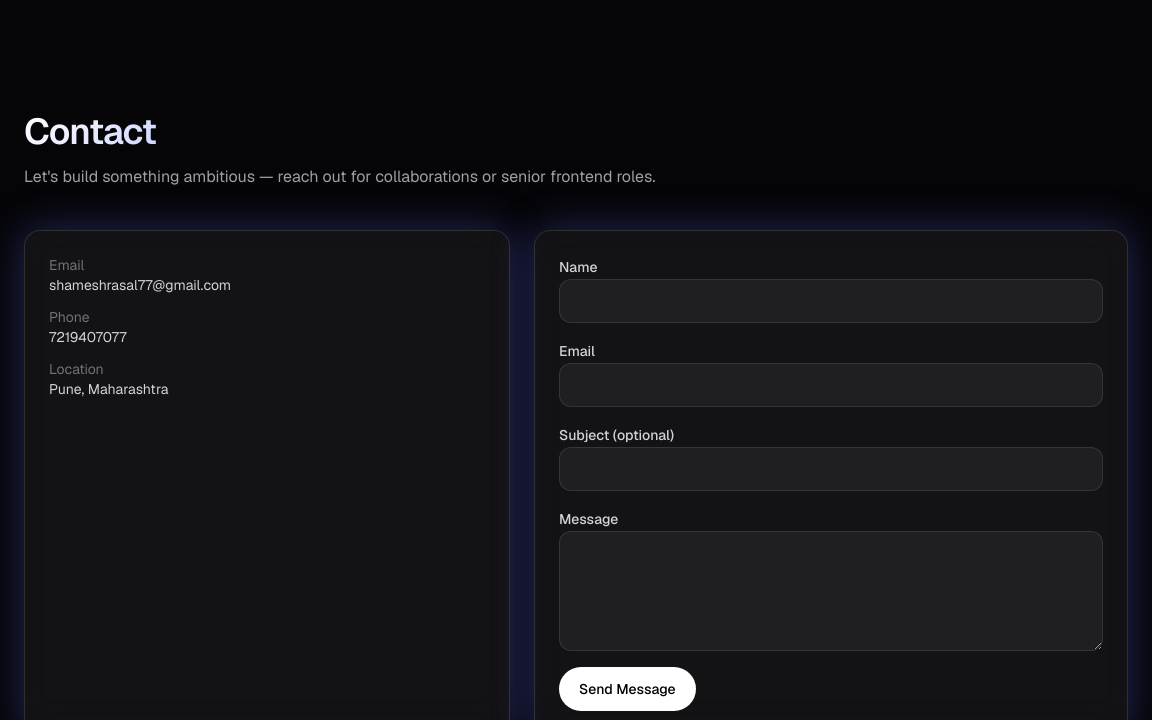
Test: ContactForm › shows validation errors for empty submit
Click the button "Send Message": x=627, y=689 x1=559 y1=667 x2=696 y2=711
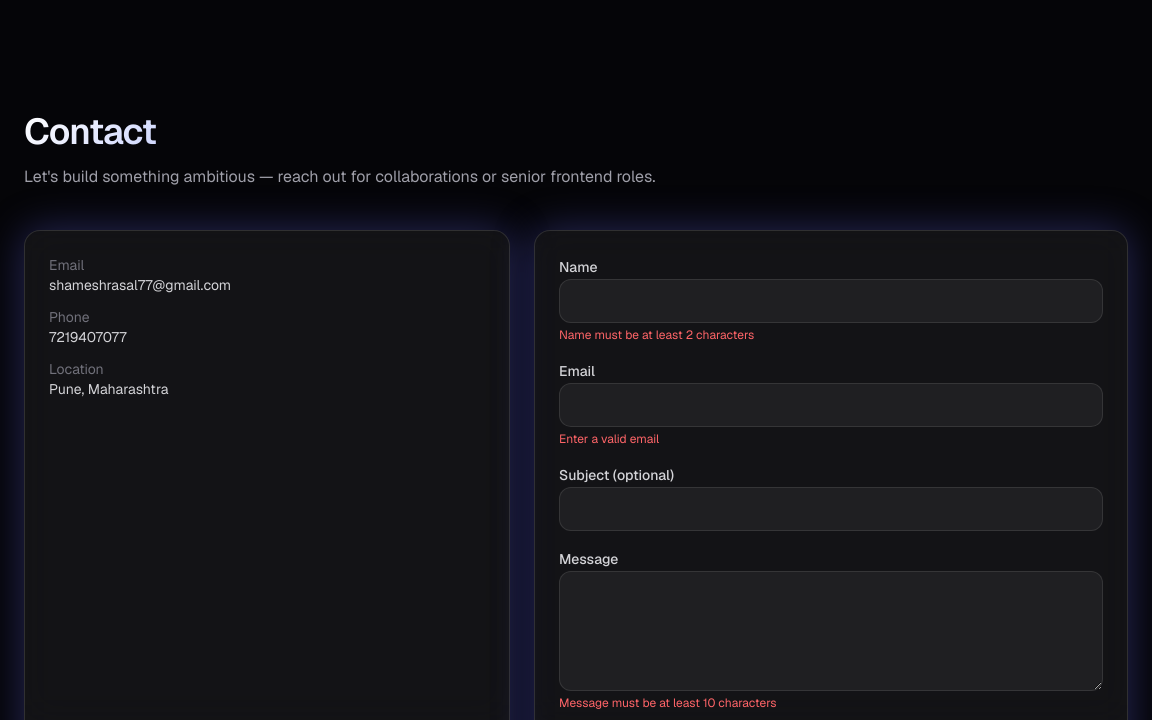
Result: the text "Name must be at least 2 characters" is shown at x1=559 y1=327 x2=754 y2=343
